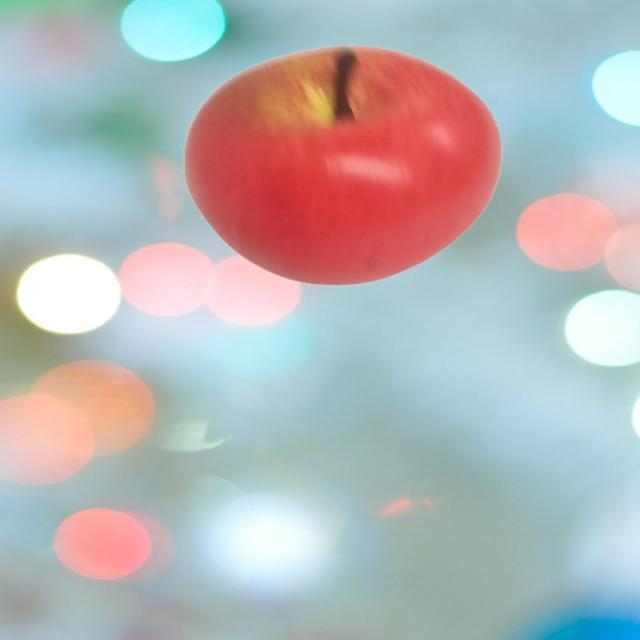apple: (188, 47, 502, 285)
